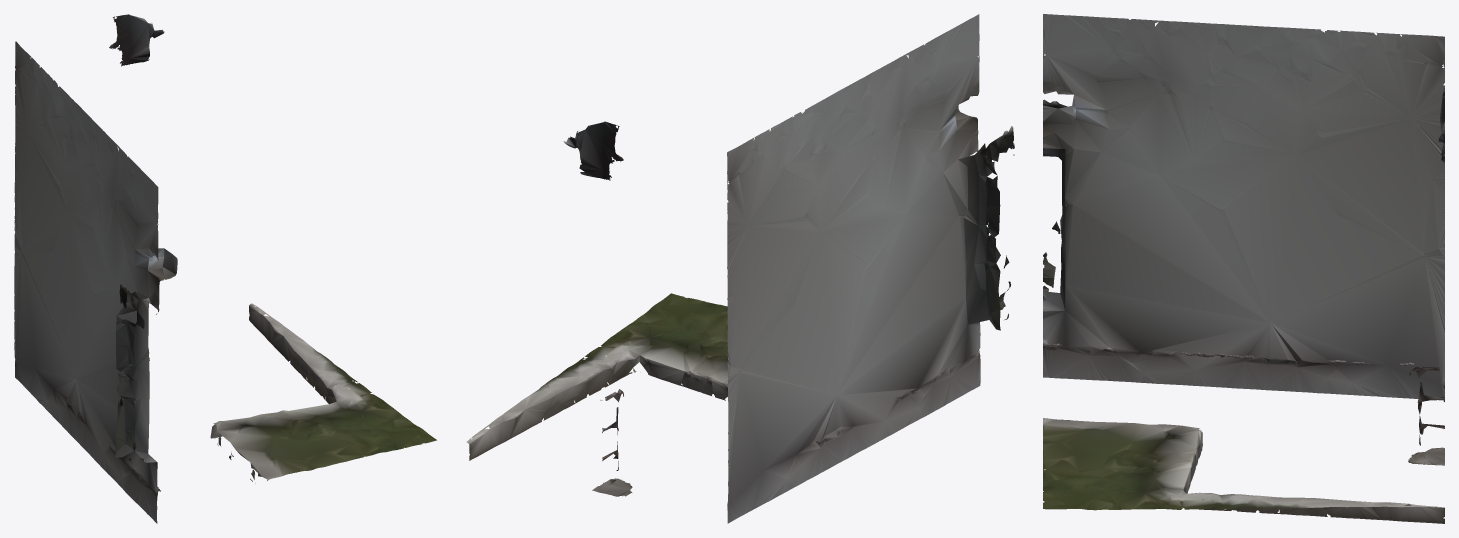
The model's file is coarse.glb.
3 renders of one model, left to right at view 1: azimuth 30°, elevation 25°; view 2: azimuth 150°, elevation 25°; view 3: azimuth 270°, elevation 25°, orthographic. The views are drawn at different scales.
Size of the model in its own units: 3.49 by 3.6 by 3.6.
